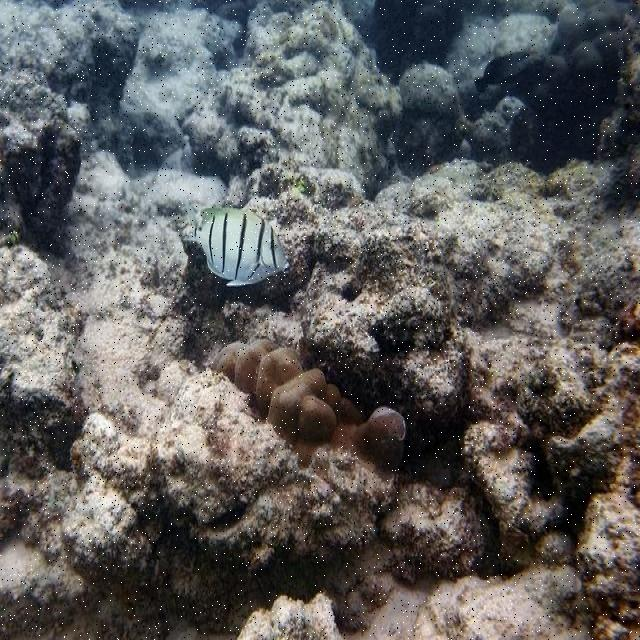fish: (181, 207, 290, 287), (474, 52, 534, 97)
reefs: (374, 2, 623, 121), (212, 336, 405, 470)
